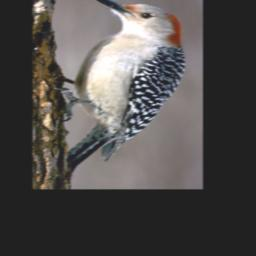Woodpecker: (55, 0, 186, 163)
